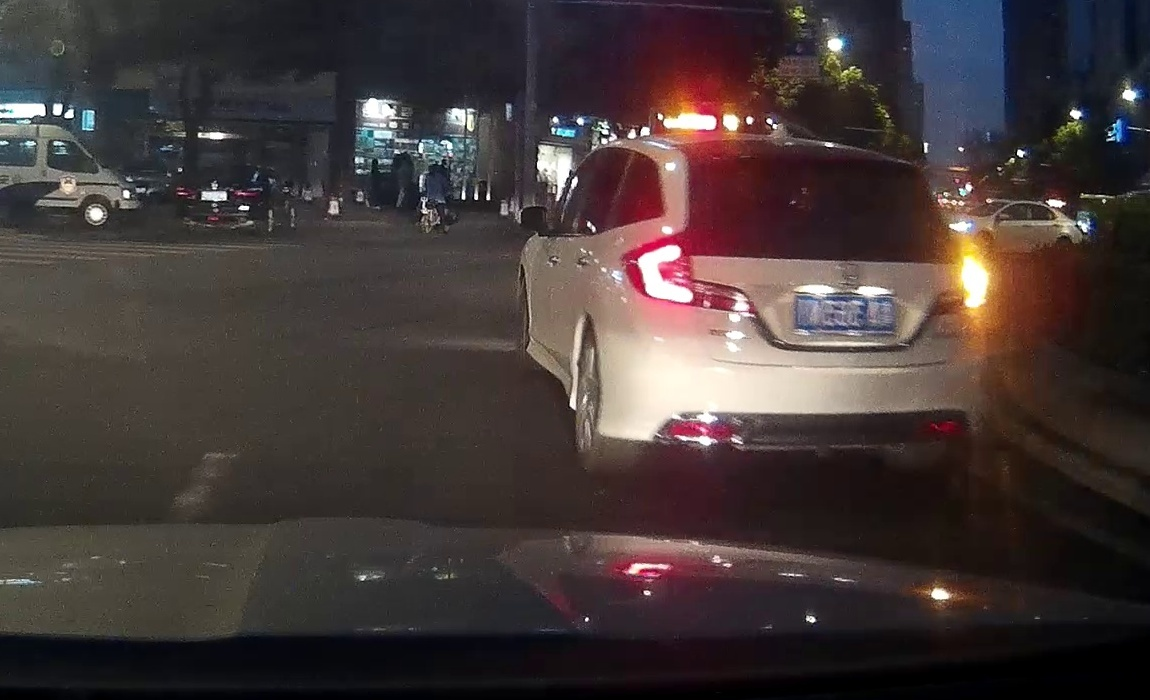L_light: (621, 234, 755, 313), (175, 186, 195, 197)
R_light: (923, 251, 985, 316), (232, 188, 264, 200)
T_light: (791, 159, 841, 172), (222, 168, 235, 172)
night-no: (175, 163, 265, 236)
night-right: (613, 132, 986, 479)
